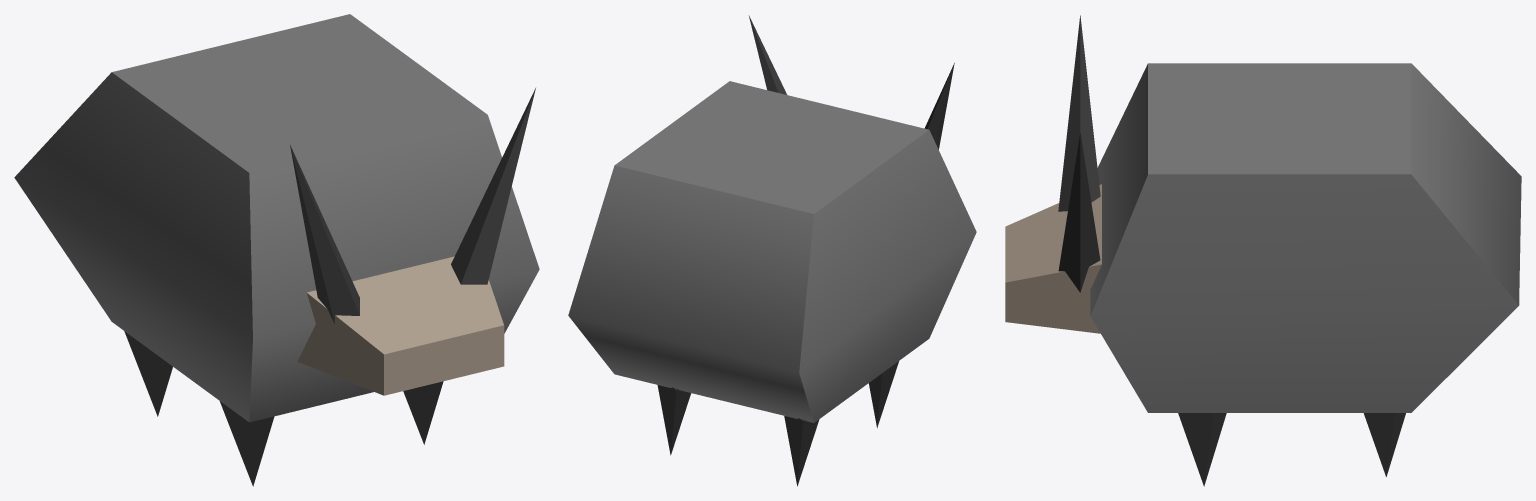
File: koe.fbx
3 views of the same model, side by side, from view 1: azimuth 30°, elevation 25°; view 2: azimuth 150°, elevation 25°; view 3: azimuth 270°, elevation 25° (orthographic). The views are drawn at different scales.
Parts seen in each view (by area): view 1: pCube1, pCube2, pCone1, pCone2, pCone4, pCone5, pCone3; view 2: pCube1, pCone5, pCone6, pCone4, pCone2, pCone1; view 3: pCube1, pCube2, pCone2, pCone1, pCone3, pCone6.
Part boxes in pixels (<box>): pCube1: <box>14,14,539,422</box>; pCube2: <box>297,256,504,395</box>; pCone1: <box>451,88,535,284</box>; pCone2: <box>290,145,359,323</box>; pCone4: <box>219,401,274,486</box>; pCone5: <box>124,331,172,416</box>; pCone3: <box>403,381,443,444</box>; pCube1: <box>568,81,976,422</box>; pCone5: <box>784,416,819,486</box>; pCone6: <box>657,385,691,455</box>; pCone4: <box>868,361,898,428</box>; pCone2: <box>924,63,954,149</box>; pCone1: <box>748,15,786,94</box>; pCube1: <box>1090,63,1521,412</box>; pCube2: <box>1005,184,1101,333</box>; pCone2: <box>1058,15,1100,211</box>; pCone1: <box>1058,133,1100,292</box>; pCone3: <box>1178,413,1226,486</box>; pCone6: <box>1363,413,1405,476</box>.
Size of the model in its own units: 1.26 by 1.59 by 1.96.
